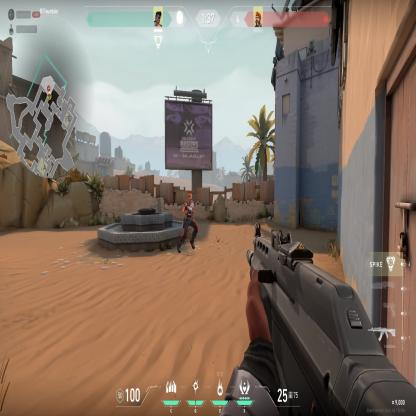enemy: (177, 193, 198, 257)
